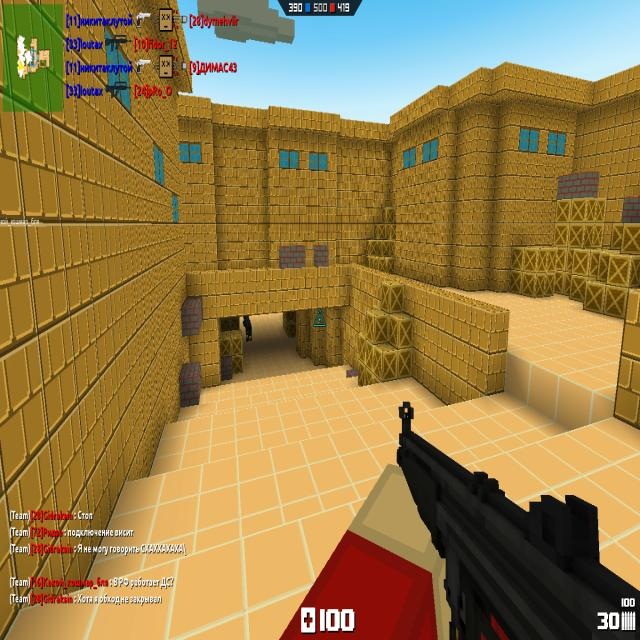enemy: (243, 316, 252, 342)
